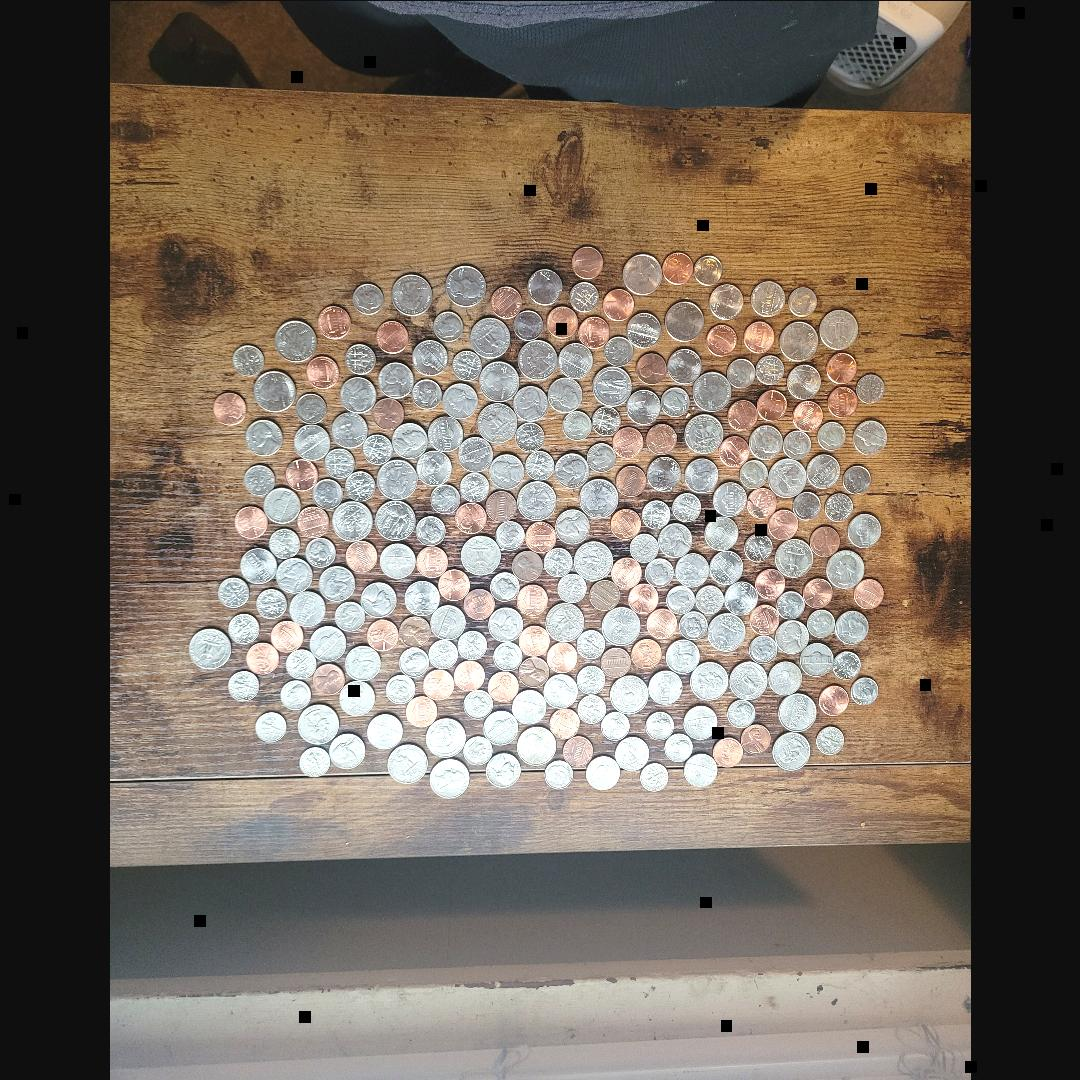Dime: (226, 670, 258, 702), (352, 281, 384, 313), (232, 345, 262, 377), (552, 571, 584, 601), (243, 464, 273, 495), (217, 575, 247, 605), (414, 514, 444, 544), (226, 612, 256, 642), (663, 732, 693, 762), (300, 745, 330, 775), (346, 346, 376, 376), (428, 640, 458, 670), (456, 628, 486, 658), (305, 536, 335, 566), (490, 568, 520, 598), (524, 448, 554, 478), (459, 472, 489, 502), (311, 480, 342, 509), (333, 602, 363, 631), (283, 650, 312, 680), (783, 429, 813, 458), (296, 392, 326, 421), (362, 433, 391, 463), (727, 357, 756, 387), (410, 379, 440, 408), (757, 356, 787, 385), (256, 712, 284, 742), (278, 680, 308, 708), (432, 311, 460, 341), (257, 589, 285, 619), (512, 309, 540, 339), (642, 498, 670, 528), (643, 556, 671, 586), (788, 287, 816, 317), (461, 688, 491, 716), (742, 535, 772, 563), (672, 492, 702, 520), (268, 529, 298, 557), (630, 534, 660, 562), (790, 492, 820, 520), (322, 446, 352, 474), (571, 280, 599, 310), (858, 374, 886, 403), (495, 523, 524, 551), (578, 691, 606, 720), (385, 675, 413, 704), (660, 386, 689, 414), (544, 547, 573, 575), (678, 609, 706, 638), (640, 762, 667, 792), (560, 412, 590, 439), (645, 712, 673, 740), (463, 734, 491, 762), (600, 712, 628, 740), (400, 647, 428, 675), (493, 643, 521, 671), (588, 442, 616, 470), (818, 421, 846, 449), (667, 587, 695, 615), (842, 465, 870, 493), (578, 628, 606, 656), (604, 334, 632, 362), (805, 608, 833, 636), (452, 349, 480, 377), (853, 674, 879, 704), (816, 727, 842, 755), (546, 758, 572, 786), (826, 492, 852, 520), (578, 664, 604, 692), (778, 592, 804, 620), (348, 472, 374, 500), (516, 423, 544, 449), (432, 486, 460, 512), (728, 698, 754, 725), (749, 632, 775, 659), (740, 458, 766, 484), (832, 652, 858, 678), (696, 586, 722, 612)
Nickel: (242, 417, 282, 454), (318, 565, 354, 603), (262, 486, 300, 522), (752, 280, 788, 318), (236, 546, 273, 582), (544, 376, 581, 412), (330, 732, 366, 768), (310, 623, 346, 659), (338, 678, 374, 714), (682, 702, 718, 738), (488, 606, 524, 642), (289, 592, 325, 628), (710, 281, 746, 317), (402, 580, 438, 616), (482, 708, 518, 744), (294, 424, 330, 460), (806, 453, 842, 489), (379, 541, 413, 579), (339, 375, 375, 410), (645, 458, 682, 492), (360, 583, 396, 617), (344, 647, 380, 681), (712, 484, 748, 518), (786, 364, 820, 400), (426, 415, 462, 449), (378, 363, 414, 397), (484, 750, 520, 784), (332, 410, 368, 444), (411, 341, 447, 375), (555, 509, 589, 545), (710, 548, 744, 584), (674, 551, 710, 585), (626, 311, 662, 345), (529, 269, 563, 304), (415, 447, 450, 481), (684, 455, 718, 490), (512, 686, 548, 719), (557, 342, 591, 376), (514, 385, 548, 419), (615, 735, 649, 769), (855, 421, 889, 455), (664, 640, 698, 674), (366, 714, 400, 748), (647, 668, 681, 702), (848, 515, 882, 549), (488, 450, 522, 484), (798, 641, 832, 675), (273, 557, 308, 590), (541, 674, 577, 706), (430, 606, 466, 638), (655, 524, 691, 556), (442, 382, 478, 414), (749, 424, 782, 458), (668, 350, 703, 382), (625, 392, 660, 424), (390, 422, 424, 454), (554, 452, 588, 484), (834, 609, 866, 643), (774, 620, 807, 652), (587, 754, 620, 786), (770, 662, 802, 694), (684, 751, 716, 783), (456, 436, 488, 468), (706, 517, 738, 549), (726, 580, 758, 612)
Penny: (703, 324, 737, 358), (212, 388, 246, 422), (368, 396, 404, 428), (246, 642, 280, 675), (234, 503, 268, 536), (726, 398, 760, 431), (267, 617, 301, 649), (364, 617, 398, 649), (625, 580, 659, 612), (342, 539, 376, 571), (314, 306, 348, 338), (310, 662, 344, 694), (546, 306, 578, 340), (738, 724, 771, 756), (376, 318, 410, 349), (286, 457, 320, 488), (742, 318, 774, 350), (629, 639, 661, 671), (569, 246, 601, 278), (489, 286, 521, 318), (438, 565, 470, 597), (559, 734, 591, 766), (304, 354, 336, 386), (634, 352, 666, 384), (720, 432, 752, 464), (296, 504, 328, 536), (616, 463, 648, 495), (660, 251, 690, 285), (827, 353, 858, 385), (645, 606, 676, 638), (608, 557, 639, 588), (405, 694, 435, 726), (824, 385, 856, 415), (602, 290, 634, 320), (412, 546, 444, 576), (488, 668, 518, 700), (758, 387, 790, 417), (692, 254, 722, 286), (460, 590, 492, 620), (420, 668, 452, 698), (610, 426, 642, 456), (519, 623, 551, 653), (646, 424, 678, 454), (610, 511, 642, 541), (769, 510, 799, 542), (484, 490, 516, 520), (580, 315, 610, 346), (811, 528, 841, 558), (602, 646, 632, 676), (820, 683, 850, 713), (454, 660, 484, 690), (793, 398, 823, 428), (547, 643, 577, 673), (516, 585, 546, 615), (511, 550, 541, 580), (714, 736, 744, 766), (746, 604, 776, 634), (752, 570, 782, 600), (745, 486, 775, 516), (588, 582, 618, 612), (398, 615, 430, 643), (549, 710, 579, 738), (856, 578, 884, 608), (526, 524, 556, 552), (802, 576, 832, 604), (454, 501, 484, 529)
Quarter: (253, 367, 295, 410), (272, 318, 314, 360), (188, 628, 230, 670), (682, 412, 724, 453), (297, 703, 337, 745), (457, 534, 497, 576), (390, 270, 430, 312), (518, 478, 558, 520), (445, 265, 485, 307), (622, 251, 662, 292), (470, 313, 510, 354), (818, 308, 858, 348), (776, 689, 816, 729), (426, 716, 466, 756), (387, 740, 427, 780), (599, 606, 639, 646), (578, 476, 618, 516), (543, 600, 583, 640), (378, 459, 418, 499), (593, 366, 633, 406), (825, 546, 863, 588), (518, 723, 557, 763), (666, 300, 705, 340), (518, 340, 558, 379), (776, 539, 815, 578), (706, 610, 744, 650), (574, 540, 612, 579), (772, 730, 810, 768), (430, 760, 468, 798), (690, 659, 728, 697), (332, 498, 370, 536), (478, 404, 516, 442), (768, 458, 806, 496), (480, 359, 518, 397), (729, 662, 767, 698), (610, 675, 646, 713), (374, 502, 410, 540), (780, 321, 814, 361), (694, 370, 730, 407)
